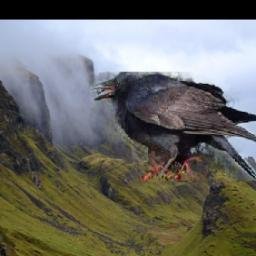Crow: (91, 73, 256, 182)
